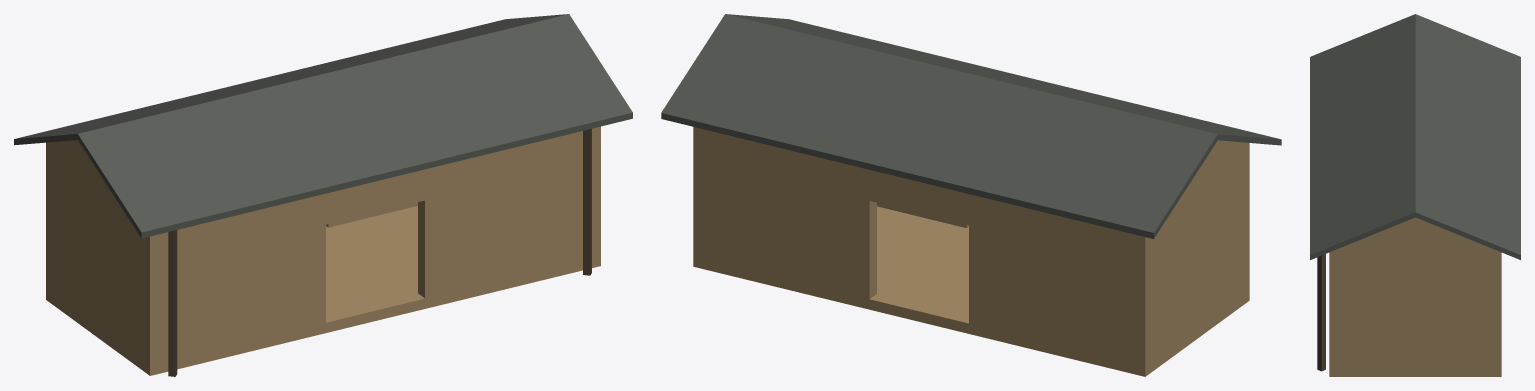
The picture shows the model from 3 angles, left to right: view 1: azimuth 30°, elevation 25°; view 2: azimuth 150°, elevation 25°; view 3: azimuth 270°, elevation 25°; orthographic projection. The views are drawn at different scales.
Parts seen in each view (by area): view 1: layout__LY_P01_earth__FLAT, layout__LY_P01_tile__FLAT, layout__LY_P01_timber__FLAT; view 2: layout__LY_P01_earth__FLAT, layout__LY_P01_tile__FLAT; view 3: layout__LY_P01_tile__FLAT, layout__LY_P01_earth__FLAT, layout__LY_P01_timber__FLAT.
Boxes of the visible parts, left/top/right/bottom form: layout__LY_P01_earth__FLAT: left=46, top=126, right=600, bottom=375; layout__LY_P01_tile__FLAT: left=14, top=14, right=632, bottom=238; layout__LY_P01_timber__FLAT: left=168, top=128, right=591, bottom=376; layout__LY_P01_earth__FLAT: left=693, top=127, right=1249, bottom=376; layout__LY_P01_tile__FLAT: left=661, top=14, right=1281, bottom=238; layout__LY_P01_tile__FLAT: left=1310, top=14, right=1520, bottom=259; layout__LY_P01_earth__FLAT: left=1329, top=217, right=1501, bottom=376; layout__LY_P01_timber__FLAT: left=1317, top=254, right=1325, bottom=371.
Bounding box in the file's own units: 10.9 × 4.43 × 4.9.
